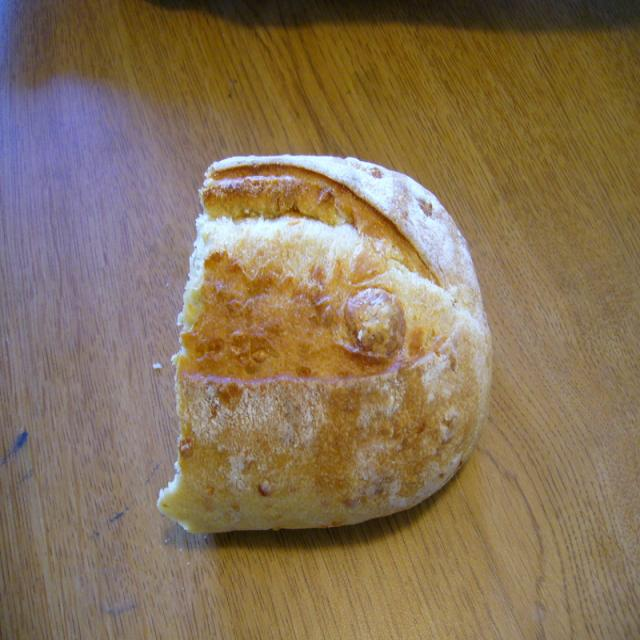food: (158, 156, 491, 532)
